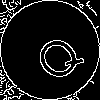Q: (25, 25, 87, 87)
